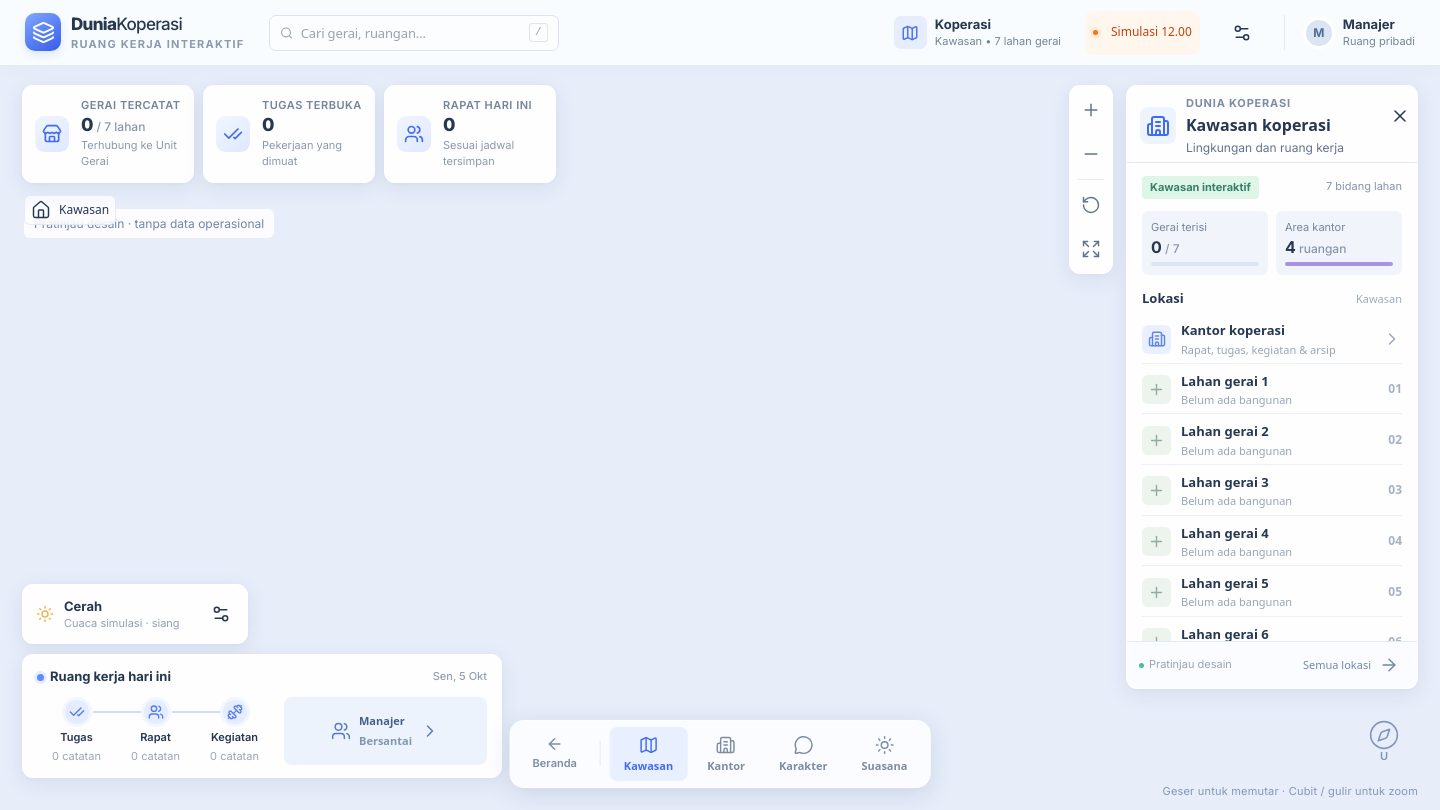
masuk dan keluar kantor dengan pintasan area yang tepat
Click the button "Kantor" at (726, 754), box [693,727,759,781]
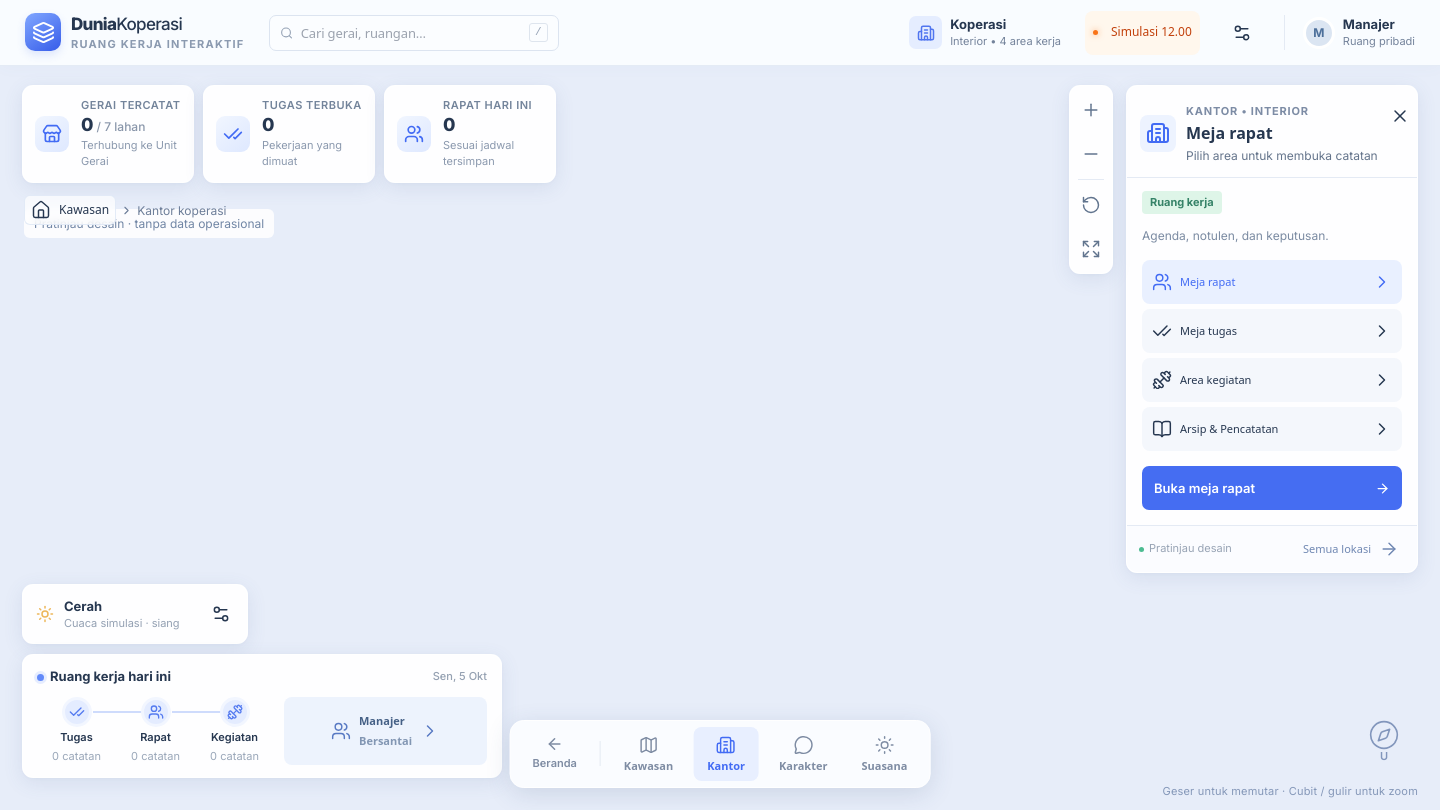
Expected: the heading "Meja rapat" is shown, [1186,122,1273,144]
Click the button "Area kegiatan" at (1216, 380), box [1142,358,1402,402]
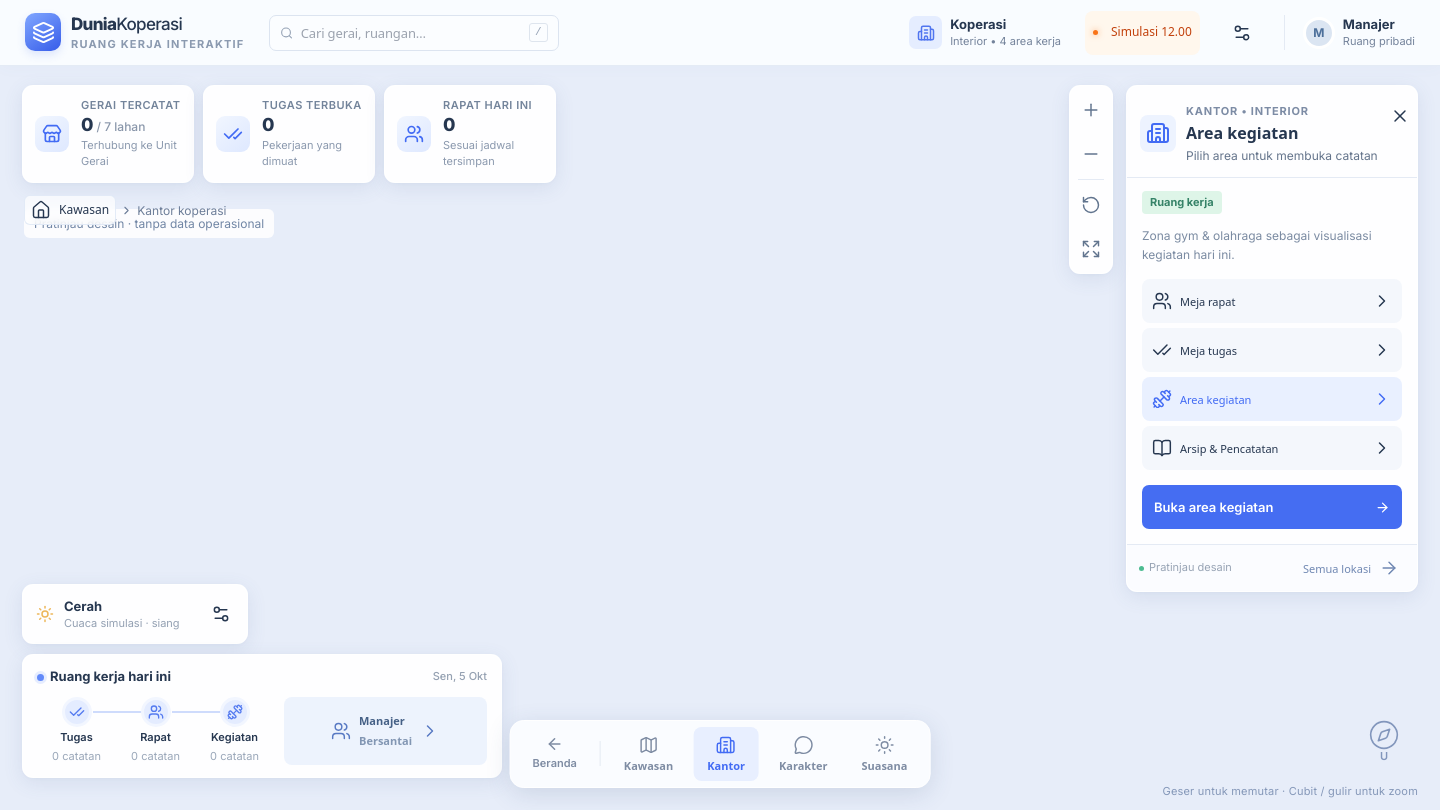
Expected: the link "Buka area kegiatan" has attribute href="/jurnal", [1142,485,1402,529]
Click the button "Kawasan" next to "Beranda" at (649, 754), box [610,727,687,781]
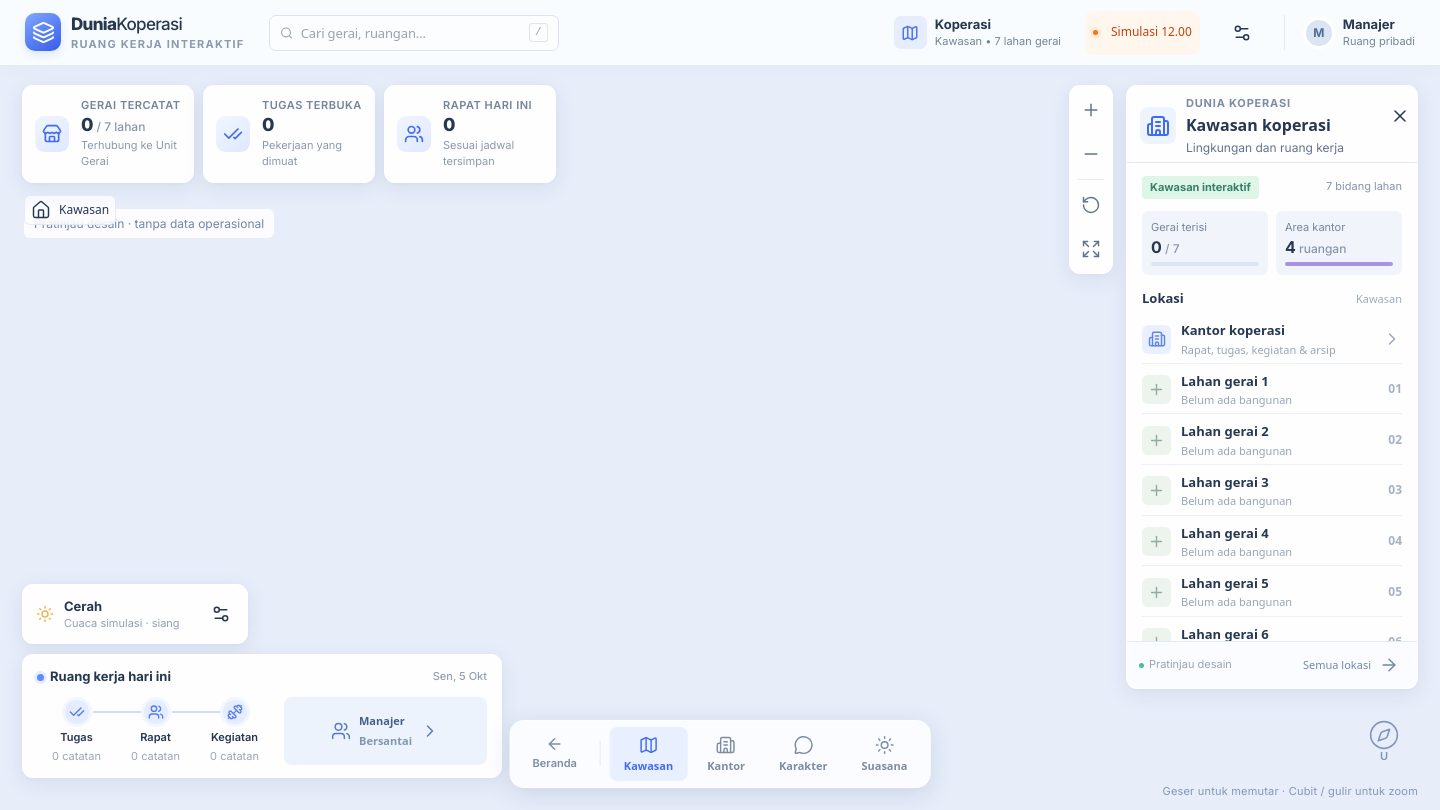
Expected: the heading "Kawasan koperasi" is shown, [1186,115,1344,137]
